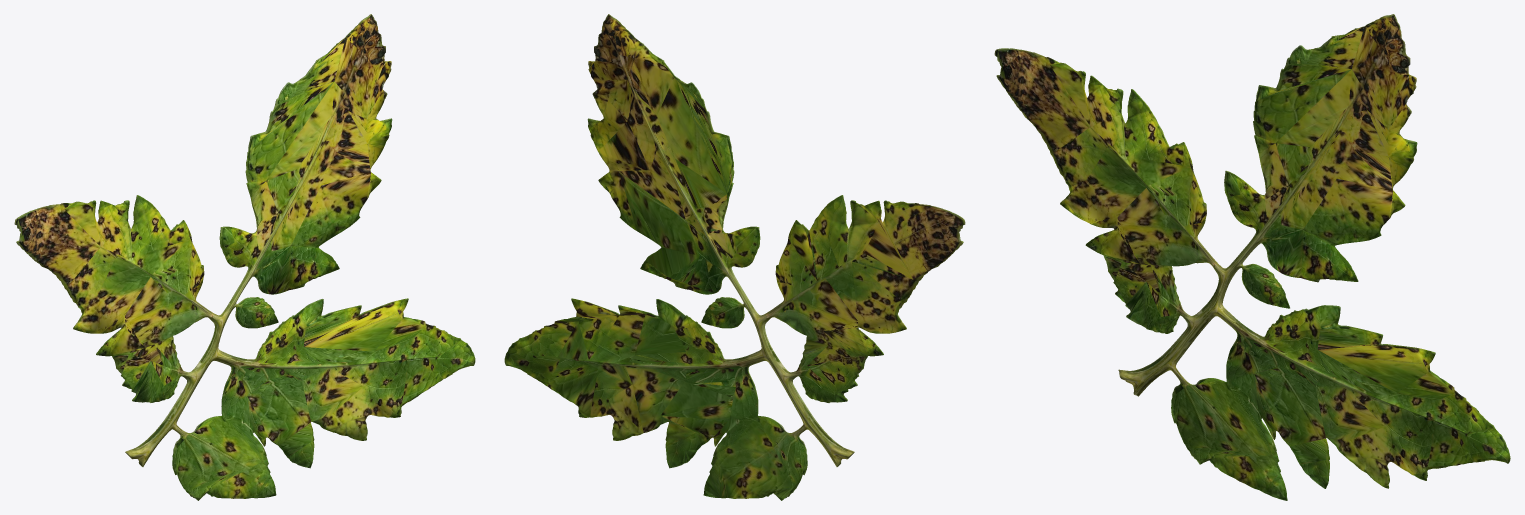
Rendered from tomato_septoria_leaf_spot.glb.
3 views of the same model, side by side, from view 1: azimuth 30°, elevation 25°; view 2: azimuth 150°, elevation 25°; view 3: azimuth 330°, elevation 25° (orthographic). The views are drawn at different scales.
Visible parts, largest first — view 1: tomato_septoria_leaf_spot; view 2: tomato_septoria_leaf_spot; view 3: tomato_septoria_leaf_spot.
Part boxes in pixels (x1,y1,x2,y2): tomato_septoria_leaf_spot: [14, 14, 475, 500]; tomato_septoria_leaf_spot: [504, 14, 965, 500]; tomato_septoria_leaf_spot: [994, 14, 1510, 500].
Size of the model in its own units: 1.05 by 0.9999 by 0.0186.
1 material, 1 textured.
